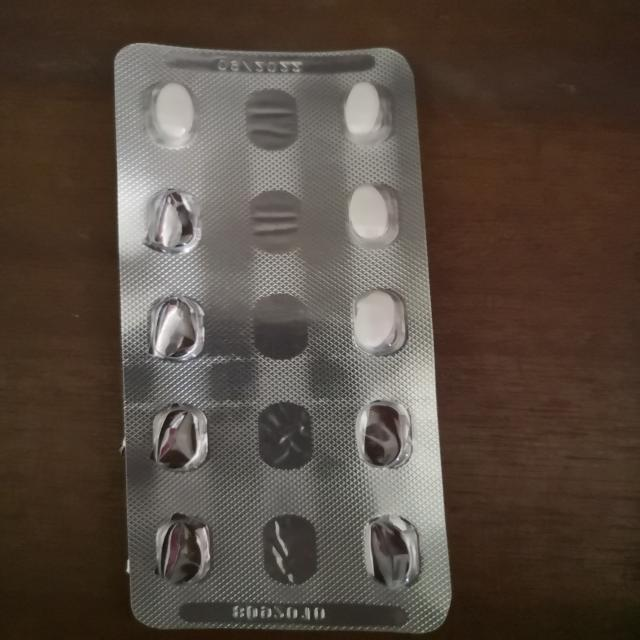Empty: (147, 512, 222, 590), (357, 512, 428, 593), (347, 394, 419, 472), (144, 399, 216, 477), (140, 289, 211, 366), (140, 186, 210, 256)
Pill: (342, 285, 414, 359), (340, 178, 404, 248), (142, 78, 202, 146), (338, 80, 392, 142)
